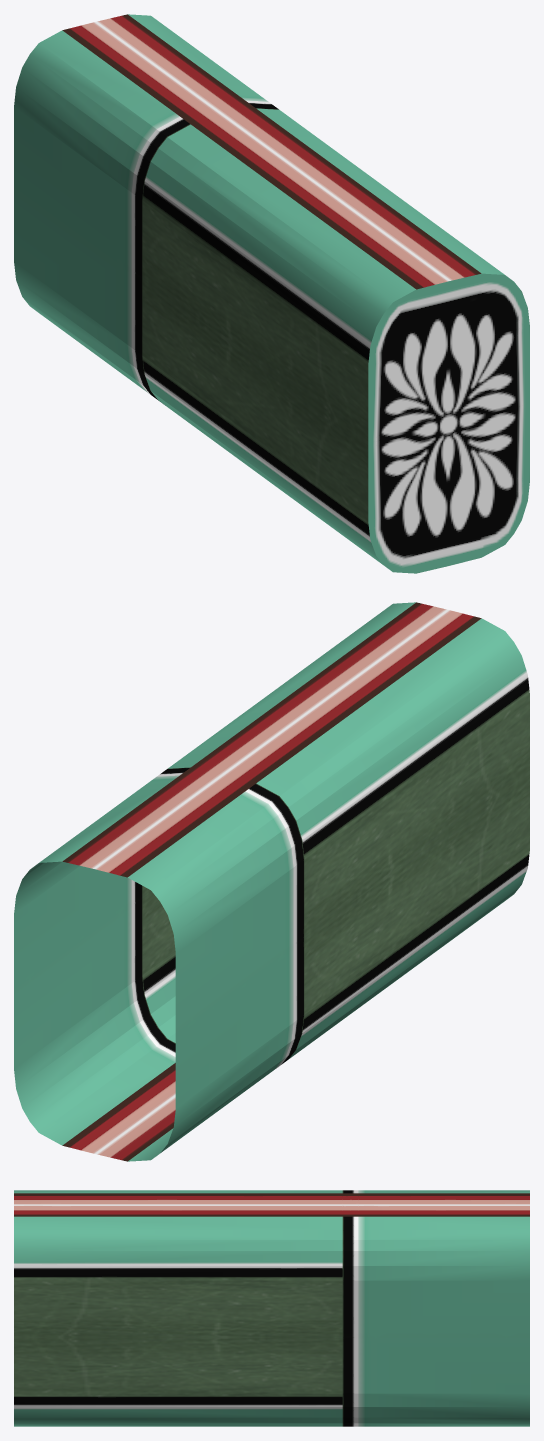
Rendered from SM_Beam02F.fbx.
The picture shows the model from 3 angles, top to bottom: view 1: azimuth 30°, elevation 25°; view 2: azimuth 150°, elevation 25°; view 3: azimuth 270°, elevation 25°; orthographic projection. The views are drawn at different scales.
Visible parts, largest first — view 1: SM_Beam02F; view 2: SM_Beam02F; view 3: SM_Beam02F.
Boxes of the visible parts, <box> form: SM_Beam02F: <box>14,14,529,573</box>; SM_Beam02F: <box>14,602,529,1161</box>; SM_Beam02F: <box>14,1190,529,1426</box>.
Size of the model in its own units: 16.7 by 63.31 by 28.08.
